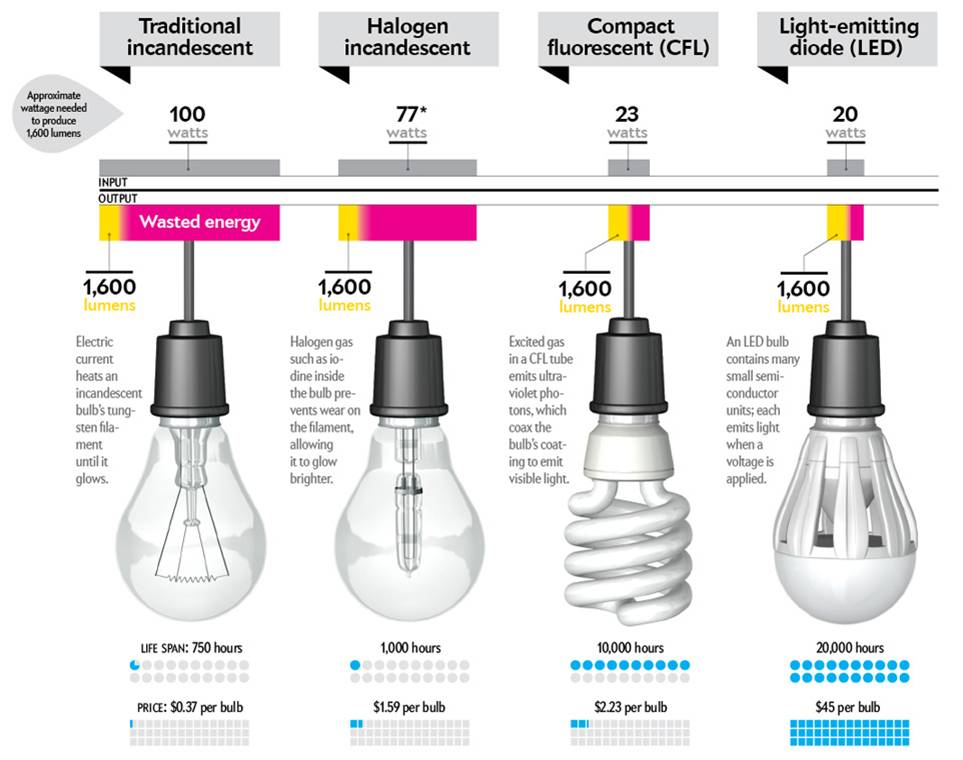Light_bulb: (752, 381, 925, 637), (109, 416, 282, 632), (327, 412, 495, 632), (561, 407, 712, 638)
